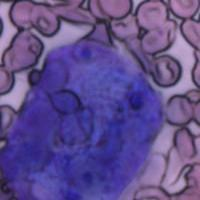D: (7, 36, 168, 200)
